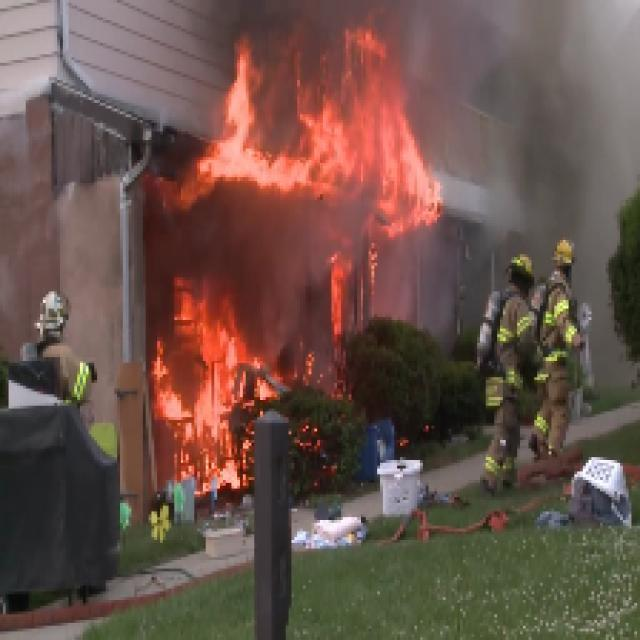Fire: (137, 34, 454, 529)
Smoke: (217, 0, 640, 174)
